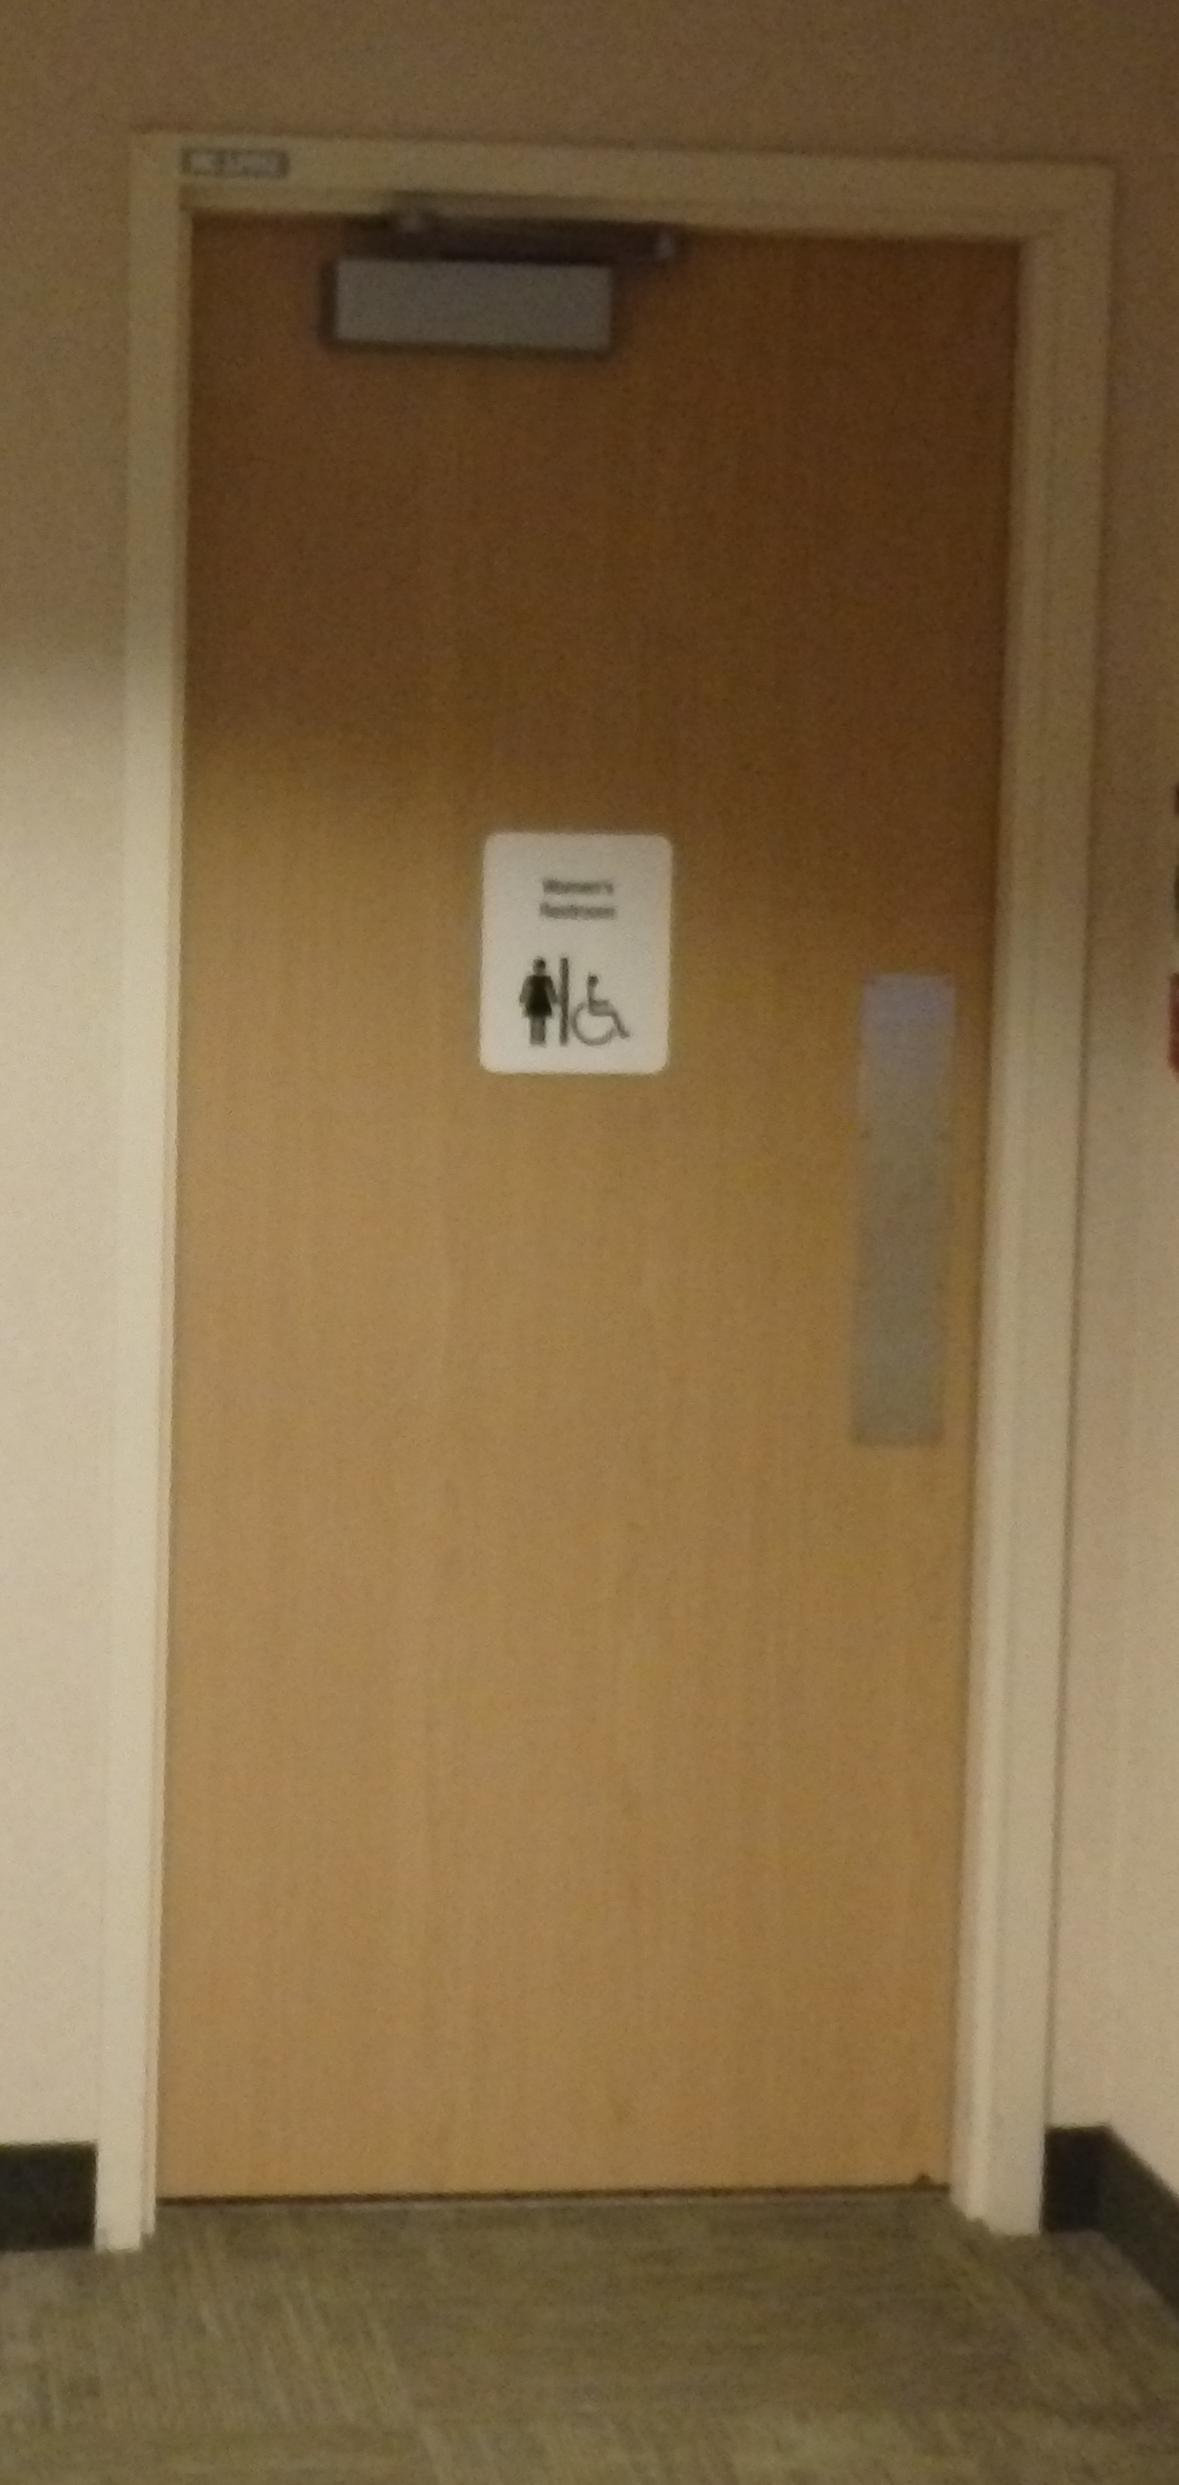door: (162, 200, 1000, 2227)
